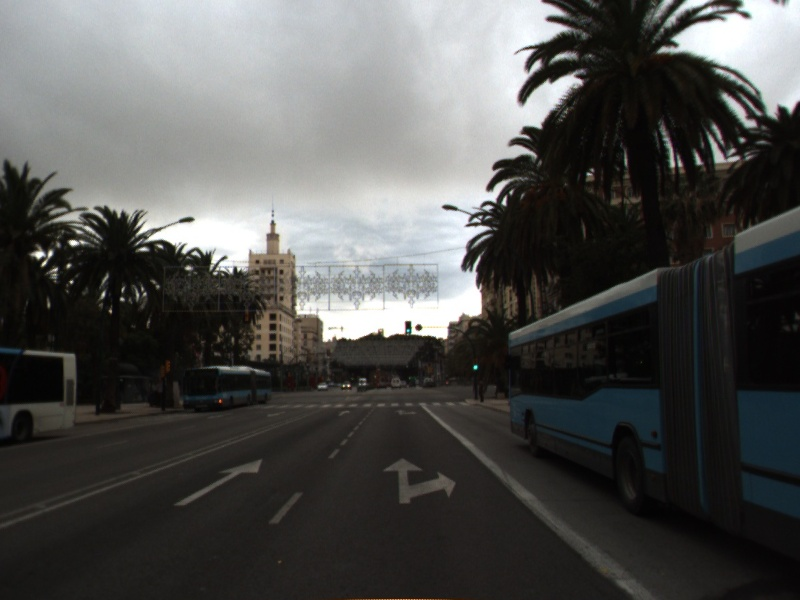STRAIGHT: (171, 456, 266, 509), (336, 409, 352, 418)
STRAIGHT_RIGHT: (380, 455, 459, 506), (392, 407, 419, 417)
